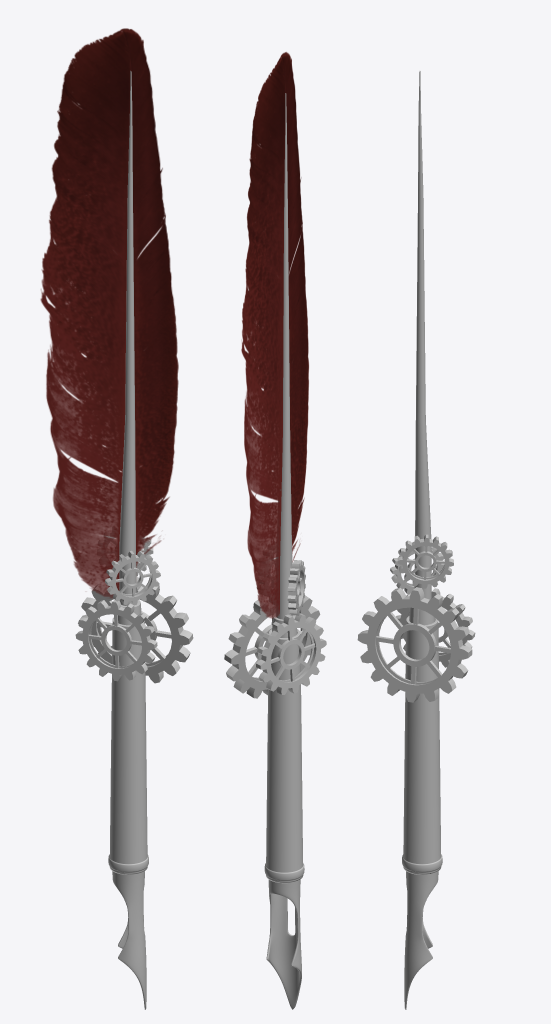
File: QuillPen_01.gltf
3 views of the same model, side by side, from view 1: azimuth 90°, elevation 25°; view 2: azimuth 150°, elevation 25°; view 3: azimuth 270°, elevation 25° (orthographic).
Visible parts, largest first — view 1: polySurface10 (×2); view 2: polySurface10 (×2); view 3: polySurface10.
Boxes of the visible parts, left/top/right/bottom form: polySurface10 (×2): left=40, top=28, right=193, bottom=1009; polySurface10 (×2): left=224, top=52, right=326, bottom=1009; polySurface10: left=357, top=71, right=475, bottom=1009.
Bounding box in the file's own units: 0.1038 × 1.44 × 0.2372.
